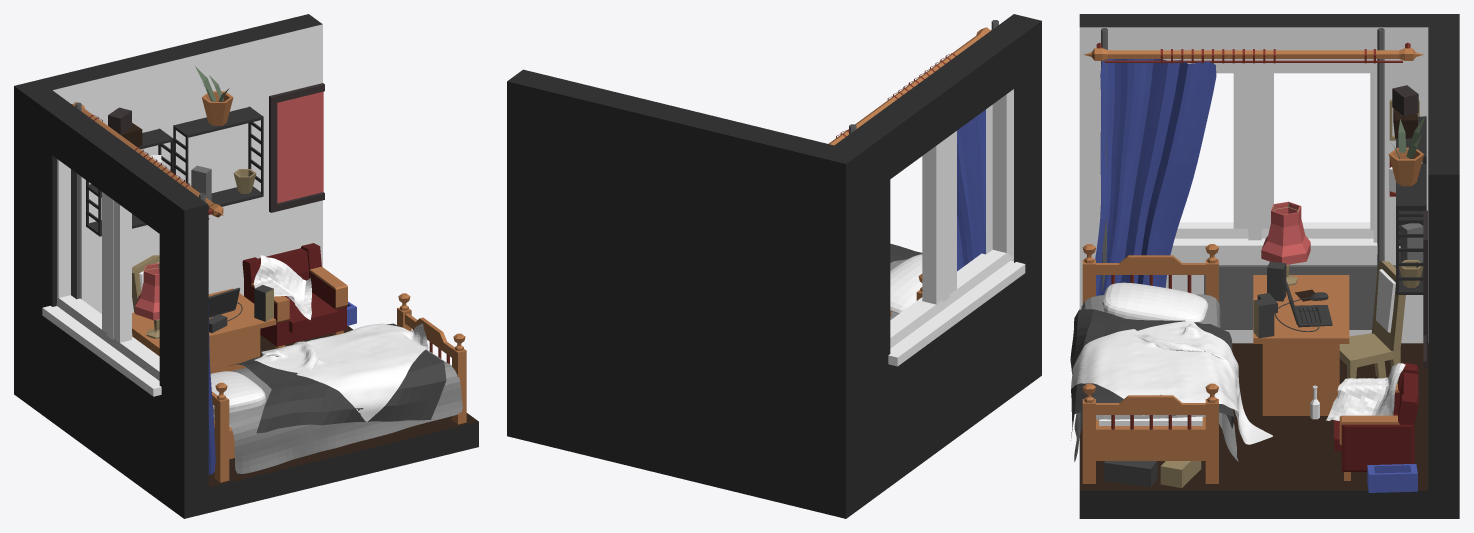
Rendered from isometric_room_new.glb.
The picture shows the model from 3 angles, left to right: view 1: azimuth 30°, elevation 25°; view 2: azimuth 150°, elevation 25°; view 3: azimuth 270°, elevation 25°; orthographic projection. The views are drawn at different scales.
Visible parts, largest first — view 1: Cube_2, Cube_0, Plane.007_0, Cube.023, Cube.011_0, Cube.007_0, Cube.037_1, Cube.021_0, Cube.001_0, Cube_1, Cube.010_0, Cube.037_0 (+17 smaller); view 2: Cube_2, Cube.011_0, Cylinder.006_0, Cube.010_0, Cube.012_0, Cube.008_0, Cube_0, Cylinder.004_0; view 3: Cube_2, Cube_0, Cylinder.006_0, Cube_1, Plane.007_0, Cube.001_0, Cube.011_0, Cube.016_0, Cube.021_0, Cube.003_0, Cube.009_0, Cube.023 (+30 smaller).
Part boxes in pixels (x1,y1,x2,y2): Cube_2: (14,14,478,518); Cube_0: (53,24,322,335); Plane.007_0: (254,323,428,421); Cube.023: (229,323,446,433); Cube.011_0: (56,159,159,380); Cube.007_0: (229,349,462,473); Cube.037_1: (277,91,323,203); Cube.021_0: (242,243,346,346); Cube.001_0: (132,288,276,373); Cube_1: (208,326,478,487); Cube.010_0: (42,298,161,396); Cube.037_0: (269,83,324,212); Cube_2: (507,14,1041,518); Cube.011_0: (890,89,1013,348); Cylinder.006_0: (957,109,985,271); Cube.010_0: (888,253,1025,366); Cube.012_0: (890,254,922,313); Cube.008_0: (942,136,949,302); Cube_0: (986,105,1013,261); Cylinder.004_0: (828,27,991,145); Cube_2: (1079,14,1459,518); Cube_0: (1079,27,1428,343); Cylinder.006_0: (1095,59,1216,295); Cube_1: (1079,343,1428,490); Plane.007_0: (1071,321,1272,444); Cube.001_0: (1253,275,1349,415); Cube.011_0: (1175,73,1373,238); Cube.016_0: (1204,265,1395,329); Cube.021_0: (1334,362,1418,471); Cube.003_0: (1096,417,1205,460); Cube.009_0: (1096,255,1205,414); Cube.023: (1070,309,1234,440).
Size of the model in its own units: 2.3 by 2.18 by 2.23.
